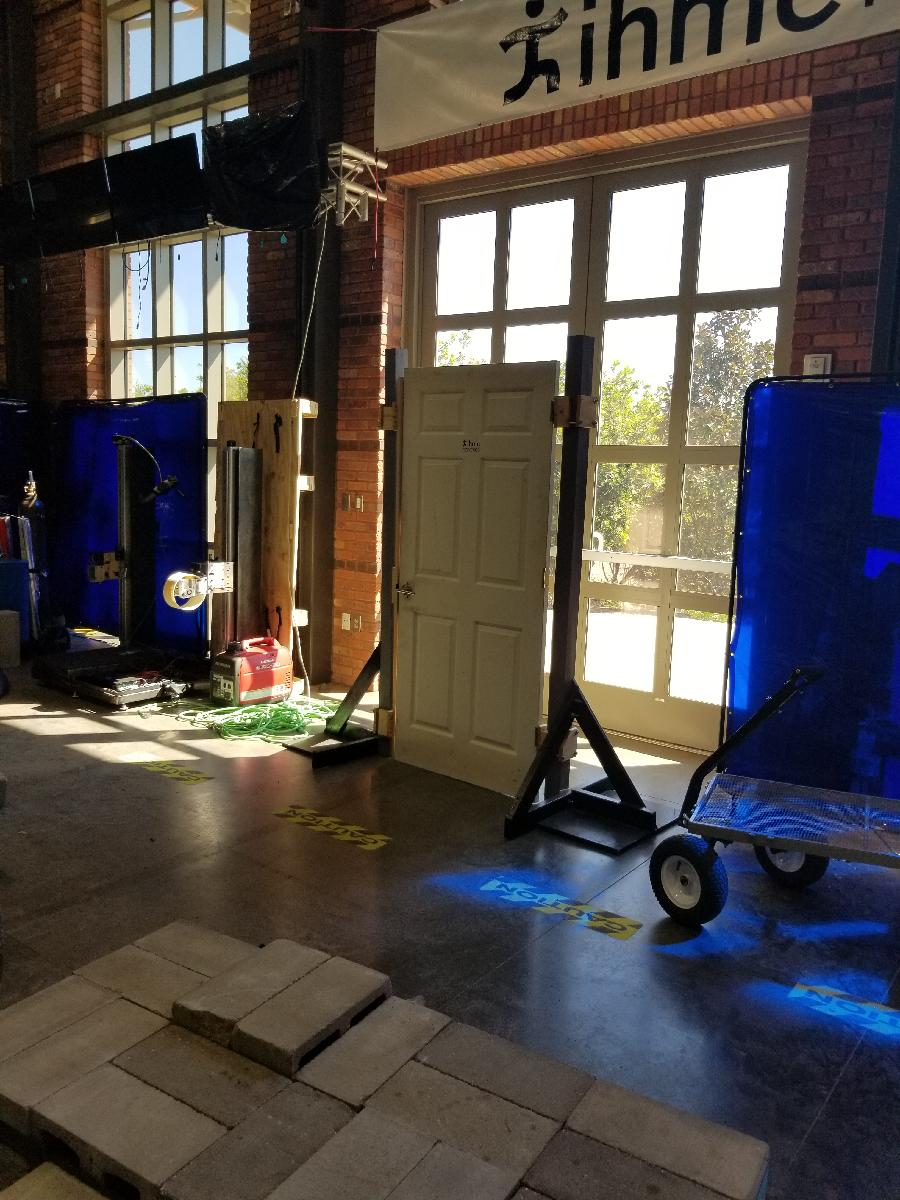door: (385, 358, 564, 813)
doorHandle: (398, 580, 419, 594)
